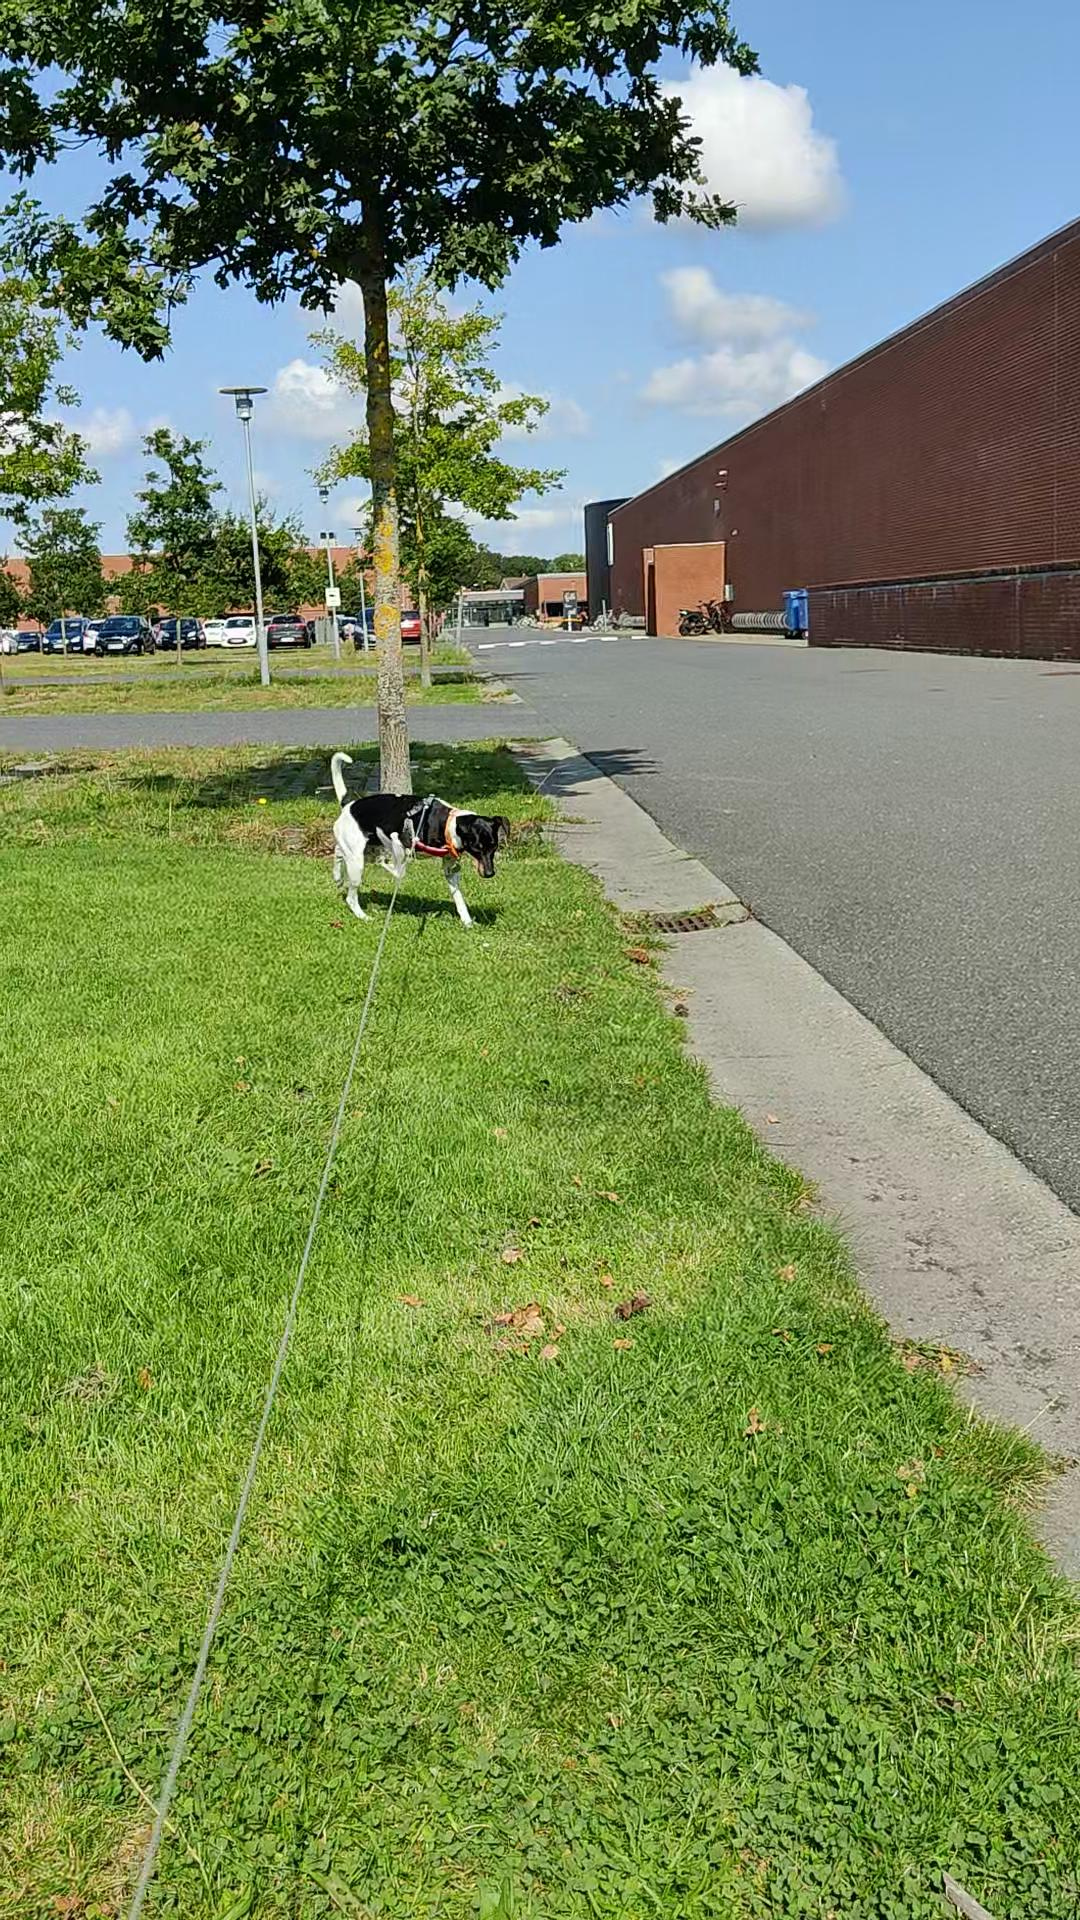Dog: (323, 748, 514, 931)
